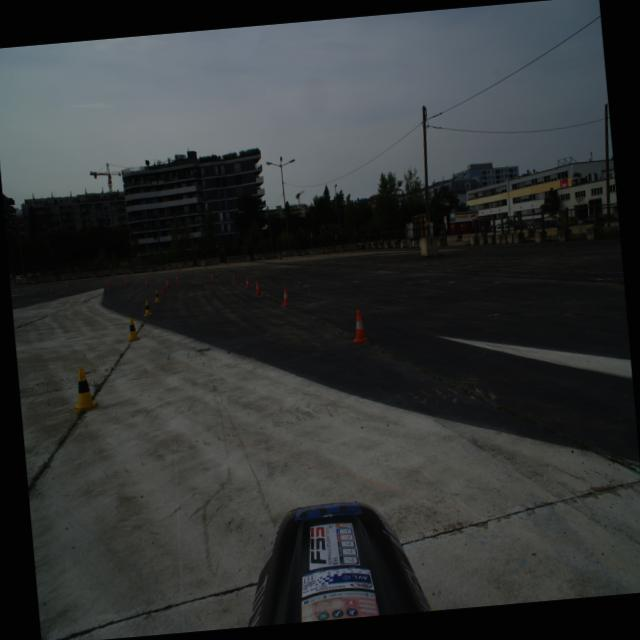orange_cone: (350, 308, 368, 344), (280, 286, 292, 306), (254, 280, 262, 295), (243, 276, 251, 288), (160, 282, 167, 292), (232, 272, 237, 282), (164, 277, 169, 286), (64, 283, 69, 290), (210, 272, 214, 280), (174, 274, 178, 282), (144, 278, 148, 286), (50, 285, 54, 293), (124, 278, 128, 284), (108, 280, 111, 288)
yellow_cone: (68, 366, 98, 414), (124, 316, 140, 342), (142, 299, 154, 316), (153, 289, 161, 302)
